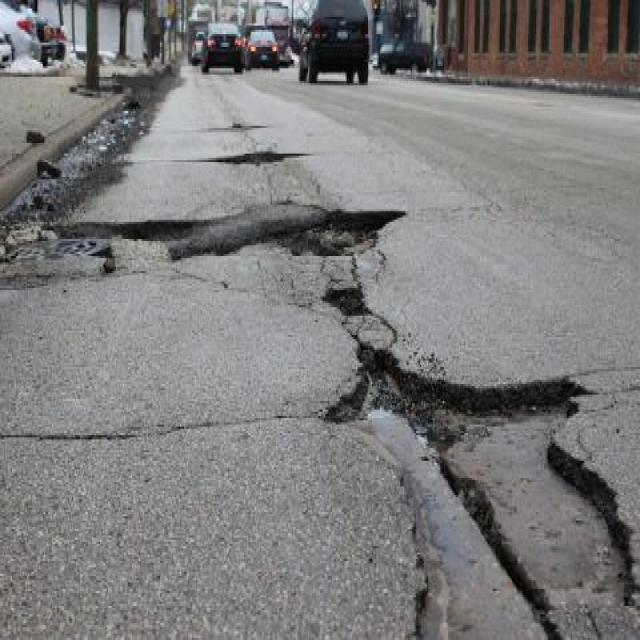pothole: (317, 339, 639, 638), (288, 203, 409, 260), (57, 211, 208, 243), (320, 281, 375, 318), (216, 147, 303, 164)
